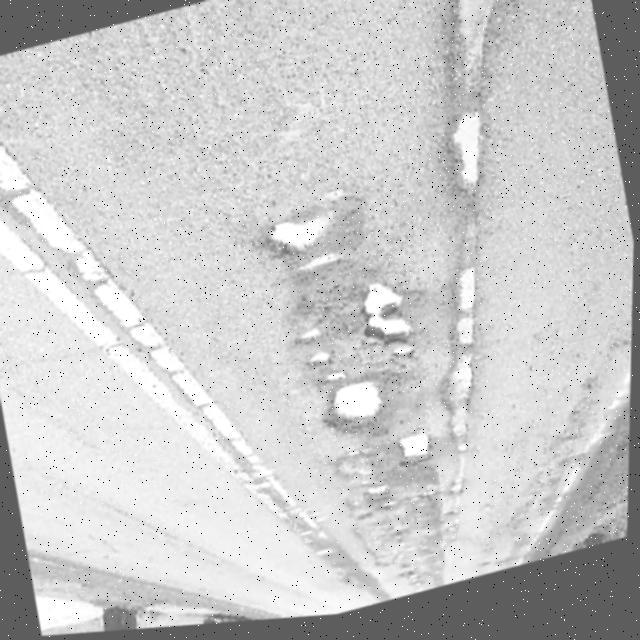pothole: (439, 0, 515, 106), (432, 350, 496, 468), (440, 110, 498, 211), (352, 277, 418, 363), (318, 379, 393, 449), (263, 209, 344, 271), (442, 266, 496, 358), (395, 434, 437, 476), (307, 350, 336, 377)
